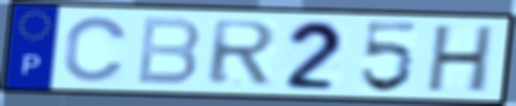2: (277, 16, 350, 95)
5: (357, 18, 418, 95)
B: (134, 15, 204, 87)
C: (61, 14, 131, 85)
H: (423, 23, 498, 96)
R: (206, 19, 281, 87)
